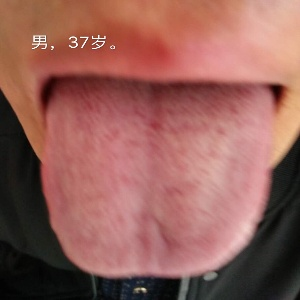st: (41, 95, 280, 277)
